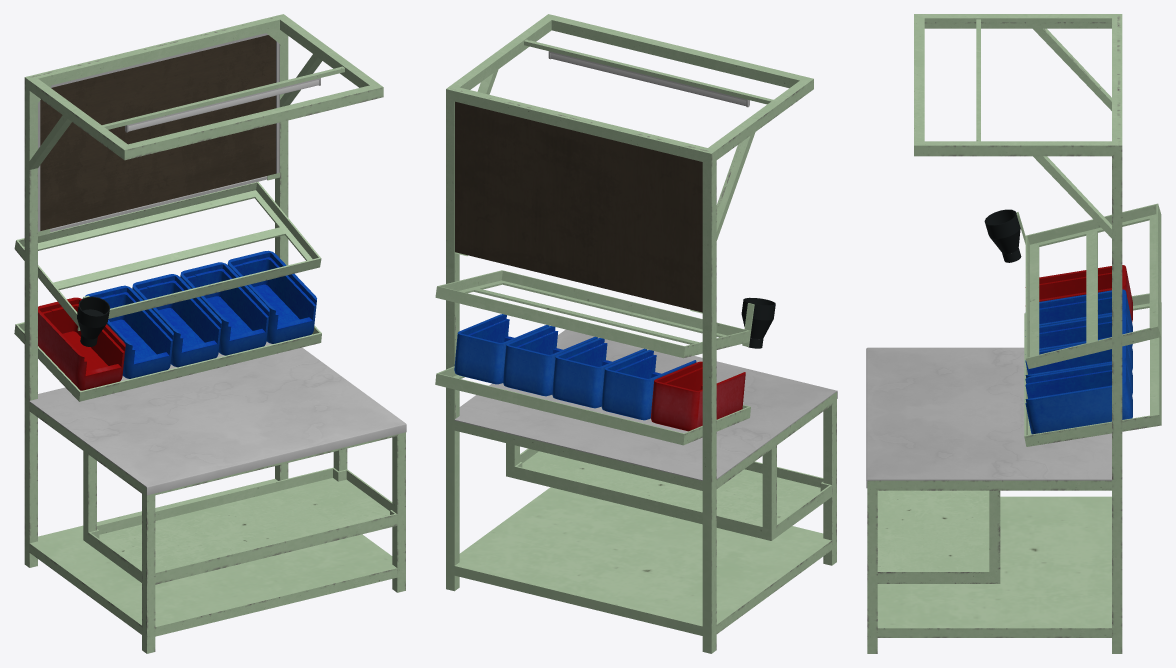
The model's file is S_InspectionTable.fbx.
The picture shows the model from 3 angles, left to right: view 1: azimuth 30°, elevation 25°; view 2: azimuth 150°, elevation 25°; view 3: azimuth 270°, elevation 25°; orthographic projection. The views are drawn at different scales.
Parts seen in each view (by area): view 1: S_InspectionTable.001, S_InspectionTableBoxes; view 2: S_InspectionTable.001, S_InspectionTableBoxes; view 3: S_InspectionTable.001, S_InspectionTableBoxes.
Boxes of the visible parts, <box> form: S_InspectionTable.001: <box>14,14,406,653</box>; S_InspectionTableBoxes: <box>38,250,316,390</box>; S_InspectionTable.001: <box>435,14,837,653</box>; S_InspectionTableBoxes: <box>454,314,745,431</box>; S_InspectionTable.001: <box>866,14,1161,653</box>; S_InspectionTableBoxes: <box>1025,265,1132,434</box>.
Bounding box in the file's own units: 164 × 292 × 153.
